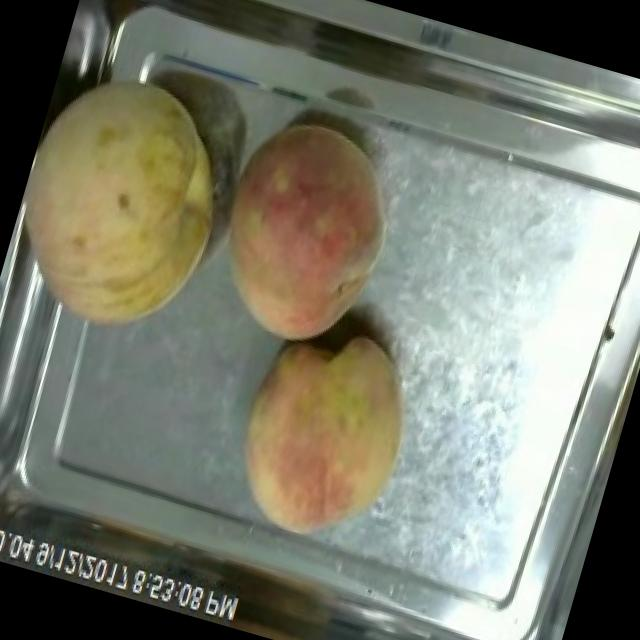Fruit: (0, 46, 262, 361), (187, 96, 422, 370), (207, 303, 440, 566)
